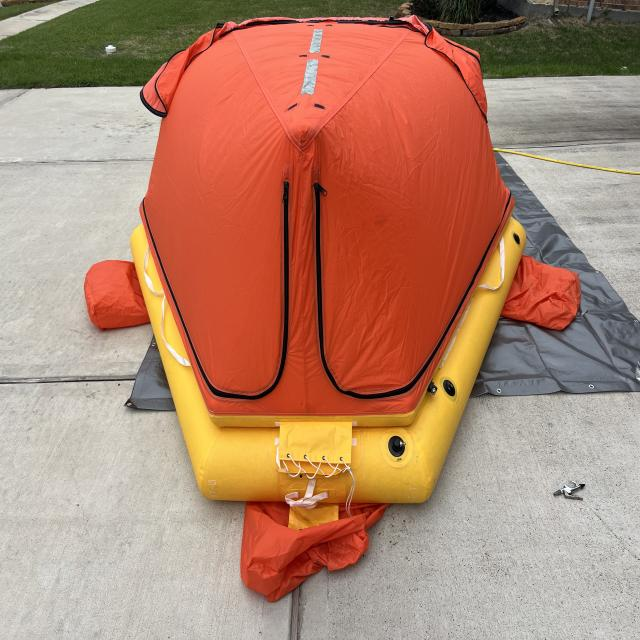Multi-person_life_raft: (83, 13, 581, 605)
